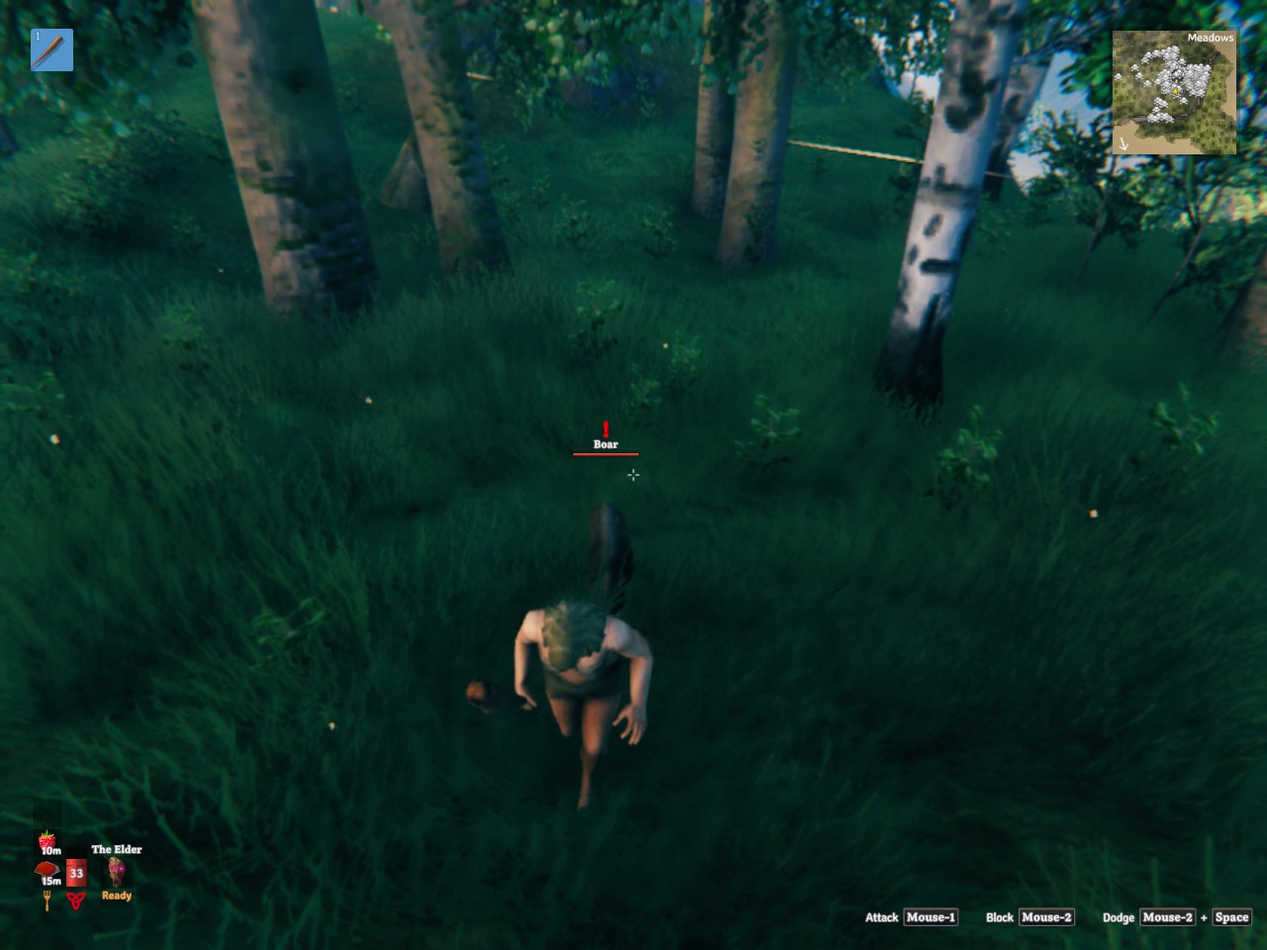Boar: (585, 502, 633, 613)
Club: (466, 679, 523, 713)
Food Indicator: (35, 860, 62, 884), (40, 830, 59, 853)
Health Bar: (67, 859, 86, 887)
Hotbar: (30, 28, 73, 71)
